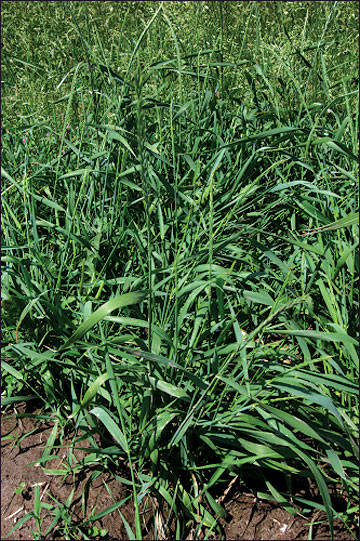crabgrass: (20, 217, 338, 495)
